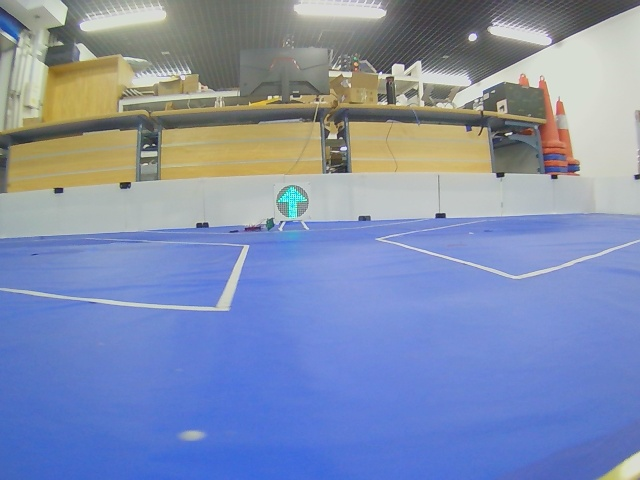straight_green: (276, 185, 309, 219)
